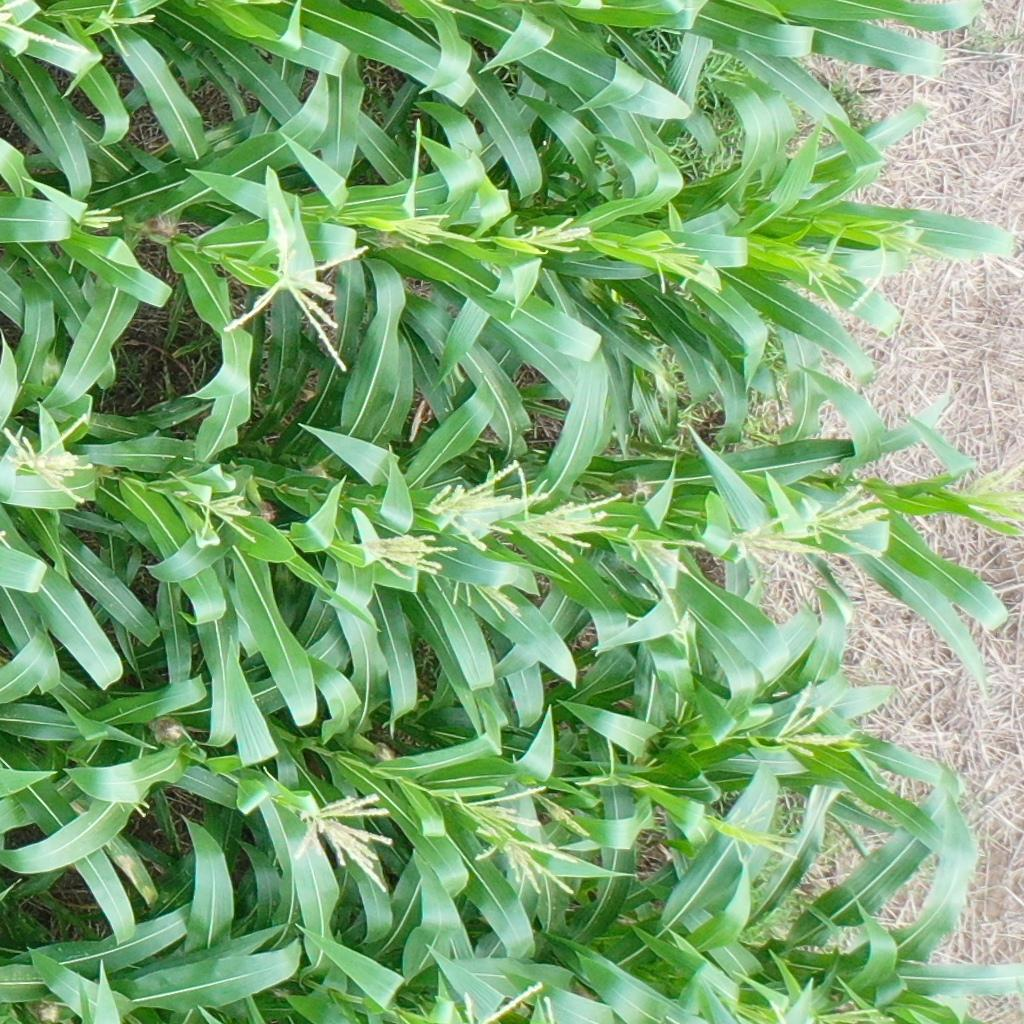Tassel: (222, 208, 373, 376), (516, 465, 624, 564), (620, 519, 704, 645), (293, 792, 396, 893), (852, 216, 958, 311), (1, 410, 95, 505), (424, 459, 518, 553), (796, 479, 899, 560), (474, 831, 581, 902), (771, 680, 851, 758), (728, 511, 828, 573), (718, 793, 799, 868), (942, 453, 1024, 527), (357, 532, 457, 581), (1, 1, 88, 57), (456, 783, 547, 835), (790, 247, 860, 310), (648, 238, 721, 295), (380, 209, 478, 249), (512, 215, 593, 256), (451, 577, 524, 622), (197, 493, 262, 542), (541, 792, 595, 839), (99, 1, 157, 33), (809, 1004, 895, 1024), (75, 204, 125, 227)
